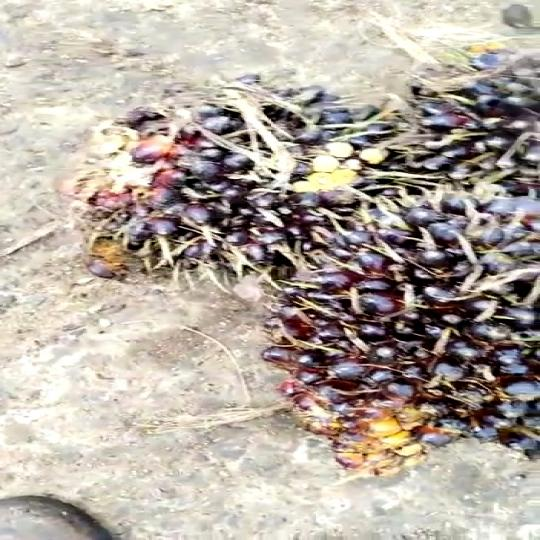mentah: (283, 198, 540, 471), (90, 75, 393, 299)
